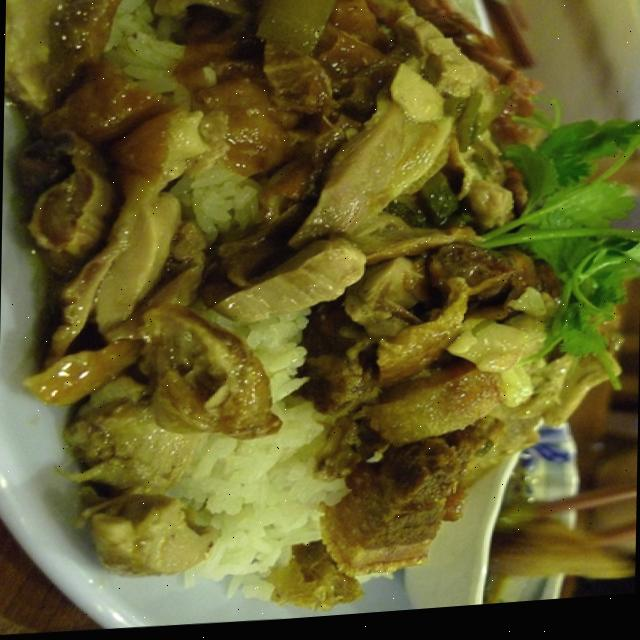米饭主食: (6, 0, 640, 627)
